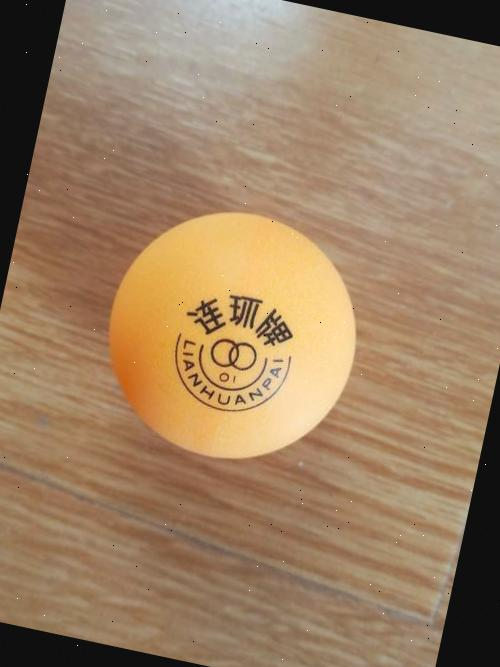ball: (74, 178, 388, 490)
